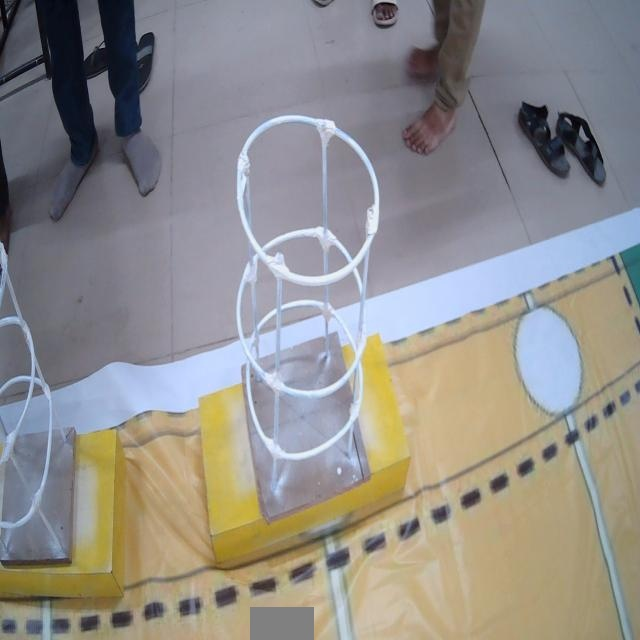silo: (219, 95, 391, 507)
